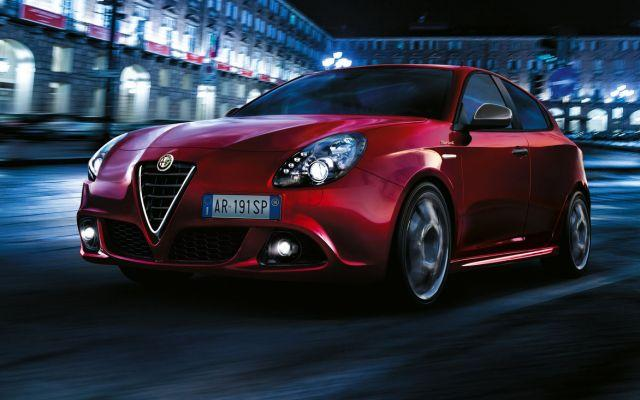windshield: (224, 61, 468, 127)
